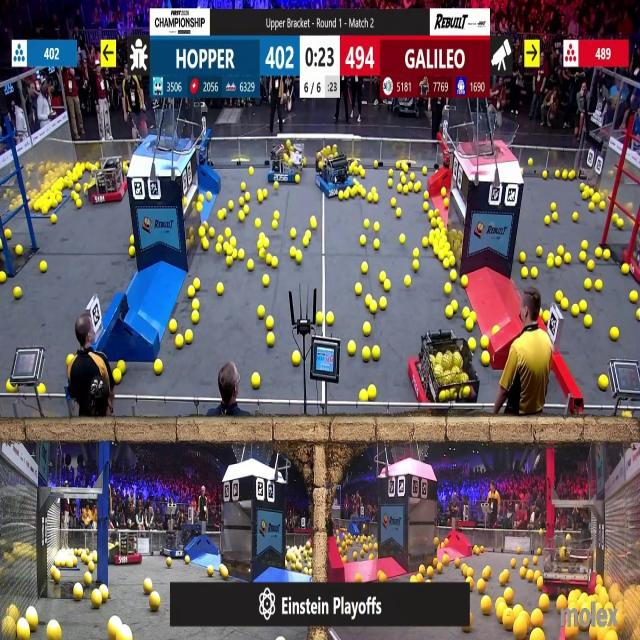ball_ground: (149, 593, 159, 611), (538, 594, 548, 612), (483, 596, 492, 614), (566, 626, 578, 639), (598, 376, 608, 391), (367, 385, 376, 401), (361, 346, 370, 362), (504, 589, 513, 604), (532, 628, 543, 640), (154, 359, 162, 374), (74, 585, 82, 600), (557, 596, 567, 608), (373, 346, 381, 361), (478, 581, 487, 594), (175, 336, 184, 349), (144, 580, 152, 594), (101, 586, 108, 602), (630, 290, 639, 302), (359, 389, 367, 402), (482, 352, 490, 365), (610, 327, 618, 340), (585, 315, 593, 328), (216, 282, 224, 295), (379, 570, 387, 583), (380, 296, 388, 309), (114, 370, 121, 384), (269, 334, 276, 348), (185, 331, 192, 345), (293, 352, 300, 366), (55, 568, 62, 582), (190, 312, 198, 324), (460, 276, 468, 288), (170, 320, 178, 332), (596, 280, 604, 292), (484, 568, 492, 580), (581, 302, 589, 314), (368, 302, 376, 314), (571, 305, 579, 317), (325, 313, 333, 325), (268, 316, 275, 329), (465, 318, 472, 331), (257, 306, 264, 319), (13, 286, 20, 298), (384, 280, 391, 292), (482, 338, 489, 350), (363, 322, 370, 334), (427, 566, 434, 578), (561, 300, 568, 312), (556, 255, 563, 267), (468, 339, 475, 351), (86, 571, 93, 583), (585, 280, 593, 290), (224, 245, 232, 255), (564, 253, 572, 263), (462, 309, 470, 319), (118, 359, 124, 372), (264, 276, 271, 287), (219, 209, 226, 220), (238, 249, 245, 260), (414, 261, 421, 272), (446, 308, 453, 319), (40, 262, 46, 274), (532, 268, 538, 280), (356, 282, 362, 294), (522, 268, 528, 280), (193, 279, 199, 291), (542, 311, 548, 323), (536, 579, 542, 591), (622, 266, 629, 276), (38, 384, 45, 394), (187, 286, 194, 296), (374, 221, 381, 231), (374, 240, 381, 250), (225, 256, 232, 266), (407, 278, 414, 288), (5, 230, 12, 240), (191, 300, 198, 310), (247, 261, 253, 272), (361, 264, 367, 275), (451, 271, 457, 282), (295, 252, 301, 263), (203, 239, 209, 250), (272, 256, 278, 267), (589, 261, 595, 272), (556, 290, 562, 301), (38, 265, 44, 276), (417, 574, 424, 583), (582, 241, 589, 250), (224, 229, 231, 238), (414, 248, 421, 257), (520, 252, 526, 262), (15, 245, 21, 255), (209, 228, 215, 238), (0, 273, 6, 283), (579, 251, 585, 261), (259, 249, 265, 259), (254, 218, 260, 228), (208, 566, 214, 576), (415, 181, 421, 191), (396, 208, 402, 218), (422, 238, 428, 248), (360, 236, 365, 247), (257, 189, 262, 200), (381, 272, 386, 283), (451, 256, 456, 267), (536, 247, 542, 256), (289, 248, 295, 257), (50, 214, 56, 223), (520, 568, 526, 577), (445, 261, 451, 270), (419, 564, 425, 573), (596, 248, 602, 257), (274, 211, 280, 220), (572, 212, 578, 221), (400, 175, 406, 184), (350, 187, 356, 196), (130, 247, 135, 257), (544, 215, 549, 225), (356, 572, 361, 582), (290, 230, 295, 240), (399, 235, 404, 245), (273, 220, 279, 228), (216, 244, 222, 252), (304, 240, 310, 248), (390, 200, 396, 208), (412, 574, 418, 582), (600, 202, 606, 210), (227, 202, 233, 210), (306, 232, 312, 240), (256, 240, 262, 248), (363, 220, 369, 228), (231, 238, 237, 246), (366, 193, 372, 201), (222, 243, 228, 251), (553, 212, 558, 221), (294, 175, 299, 184), (512, 559, 517, 568), (424, 190, 429, 199), (267, 254, 272, 263), (241, 182, 246, 191), (264, 188, 269, 197), (445, 199, 450, 208), (258, 233, 264, 240), (553, 216, 559, 223), (168, 558, 172, 568), (528, 160, 533, 168), (239, 212, 244, 220), (345, 190, 350, 198), (556, 171, 561, 179), (353, 553, 358, 561), (72, 558, 77, 566), (264, 238, 268, 248), (552, 204, 557, 212), (130, 237, 134, 246), (368, 554, 373, 561), (360, 189, 365, 196), (249, 168, 253, 176), (341, 190, 345, 198), (274, 182, 278, 190), (524, 559, 528, 567), (424, 203, 428, 211), (373, 238, 377, 246), (411, 172, 415, 180), (403, 184, 407, 192), (360, 170, 364, 177)
goal: (463, 117, 518, 158), (134, 116, 191, 152)
robot_blue: (317, 146, 351, 197), (266, 142, 304, 184), (161, 529, 196, 557)
robot_red: (412, 328, 478, 412), (544, 537, 592, 596), (90, 157, 126, 203), (113, 537, 142, 565)
